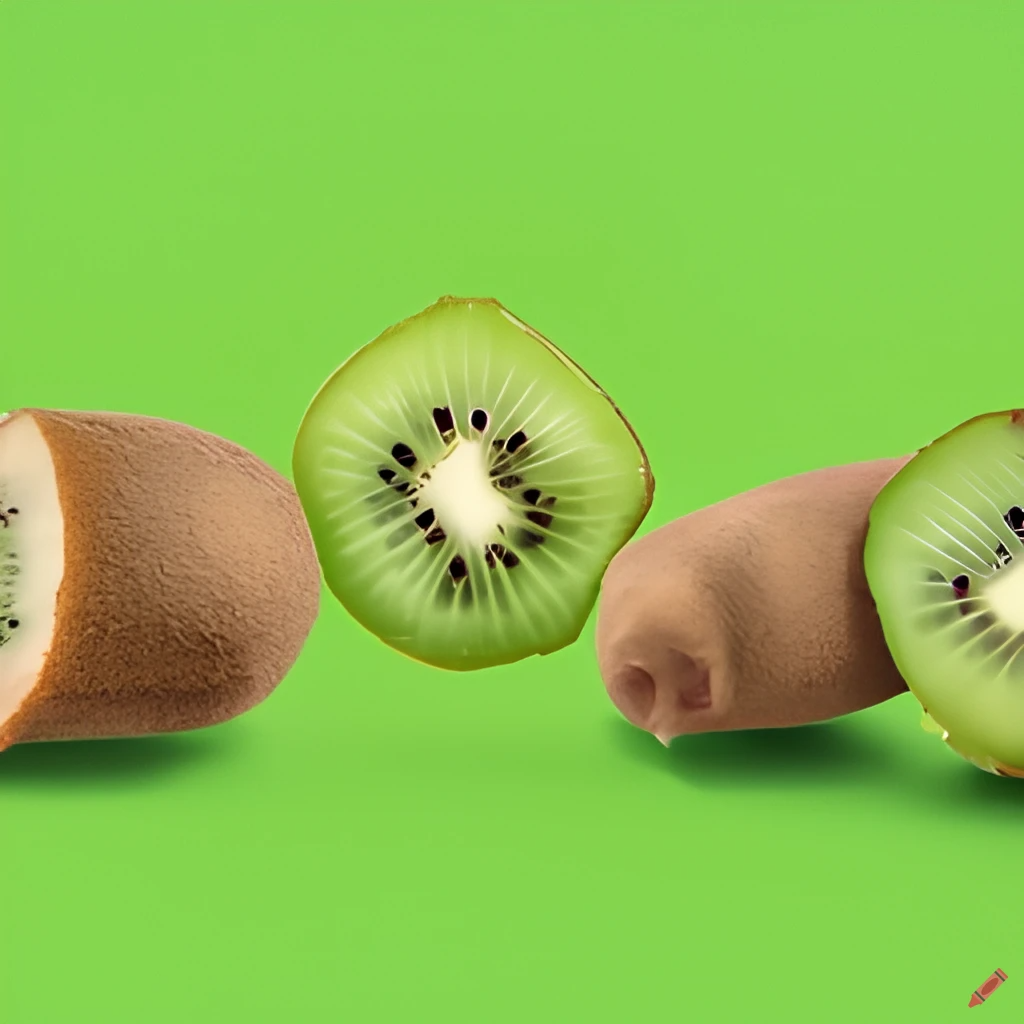Kiwi: (284, 287, 658, 707)
